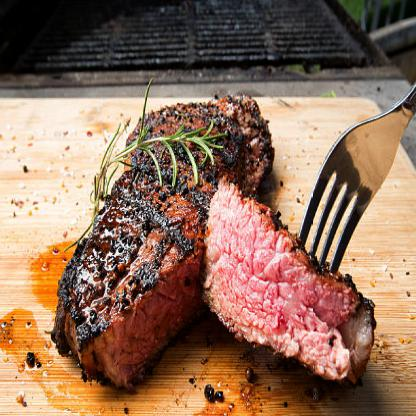Carne: (52, 88, 277, 389), (199, 183, 393, 386)
